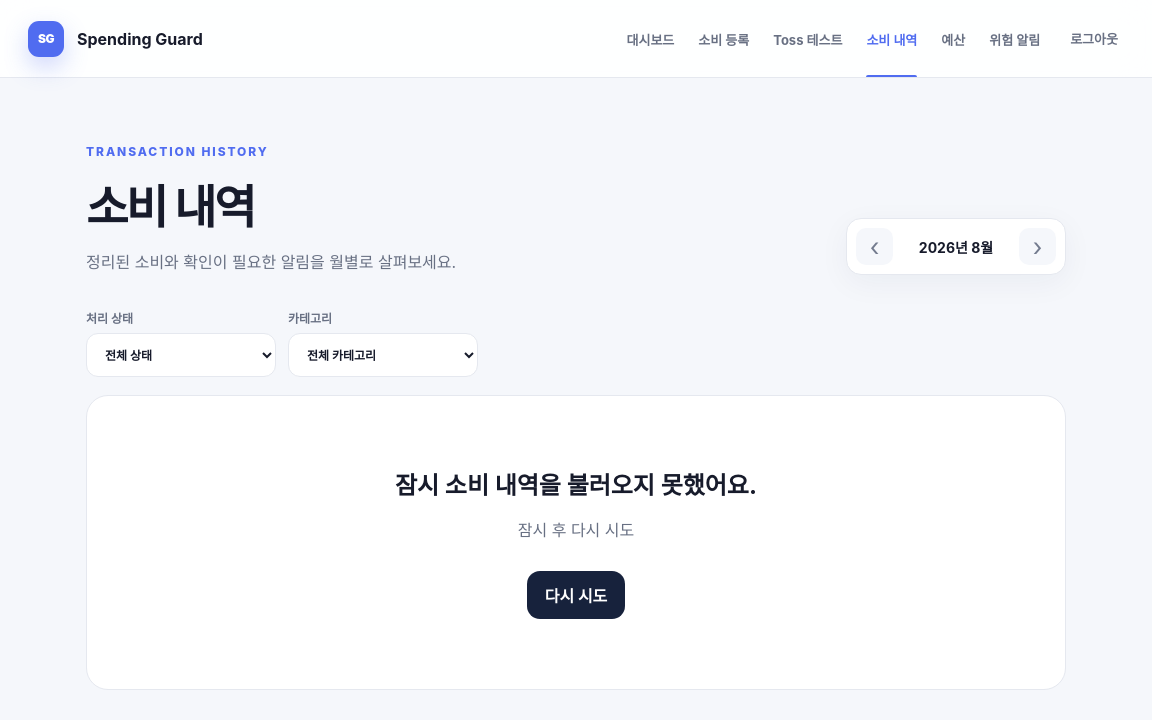
Test: TransactionHistoryView › offers a retry after a temporary loading failure
Expected: the message shows "잠시 후 다시 시도", left=518, top=520, right=634, bottom=540
Step 1. Click the button "다시 시도" → (576, 595), box left=527, top=571, right=625, bottom=619
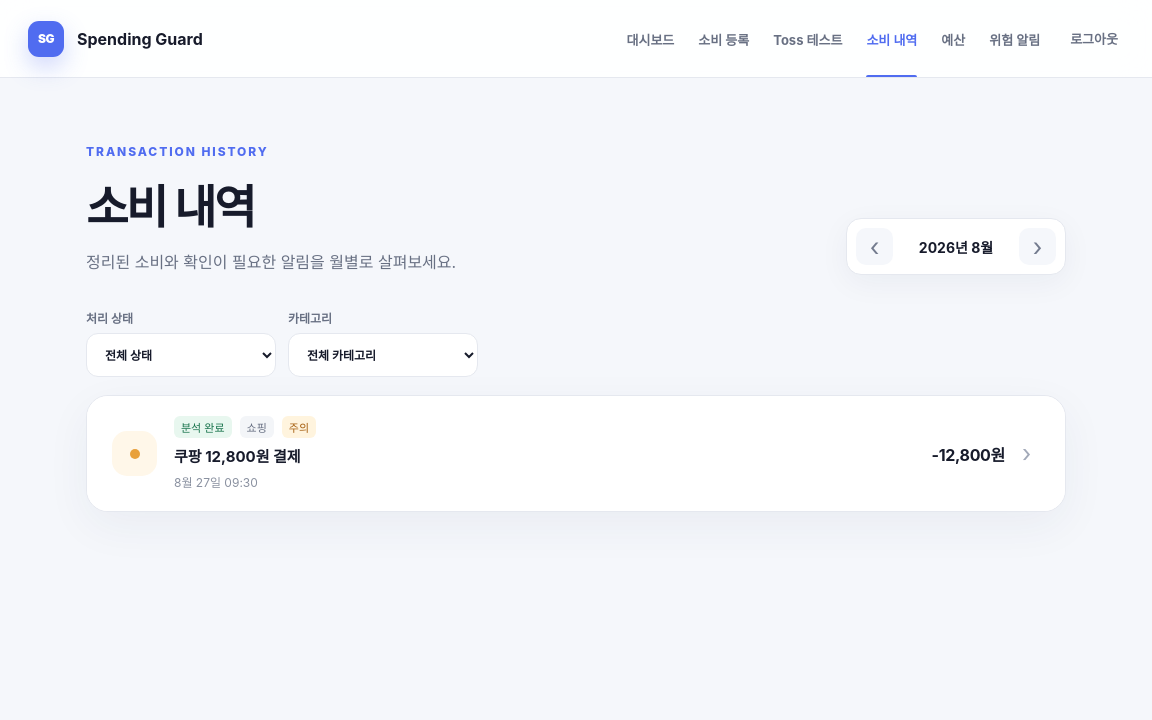
Result: the text "쿠팡 12,800원 결제" is shown at left=174, top=447, right=301, bottom=466
